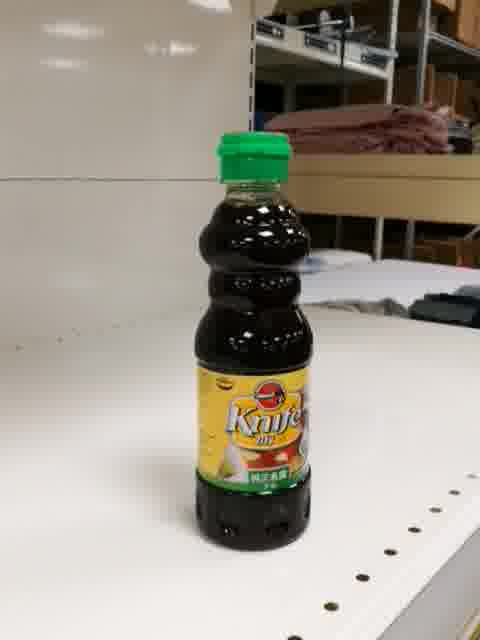cookingoil: (191, 128, 316, 553)
